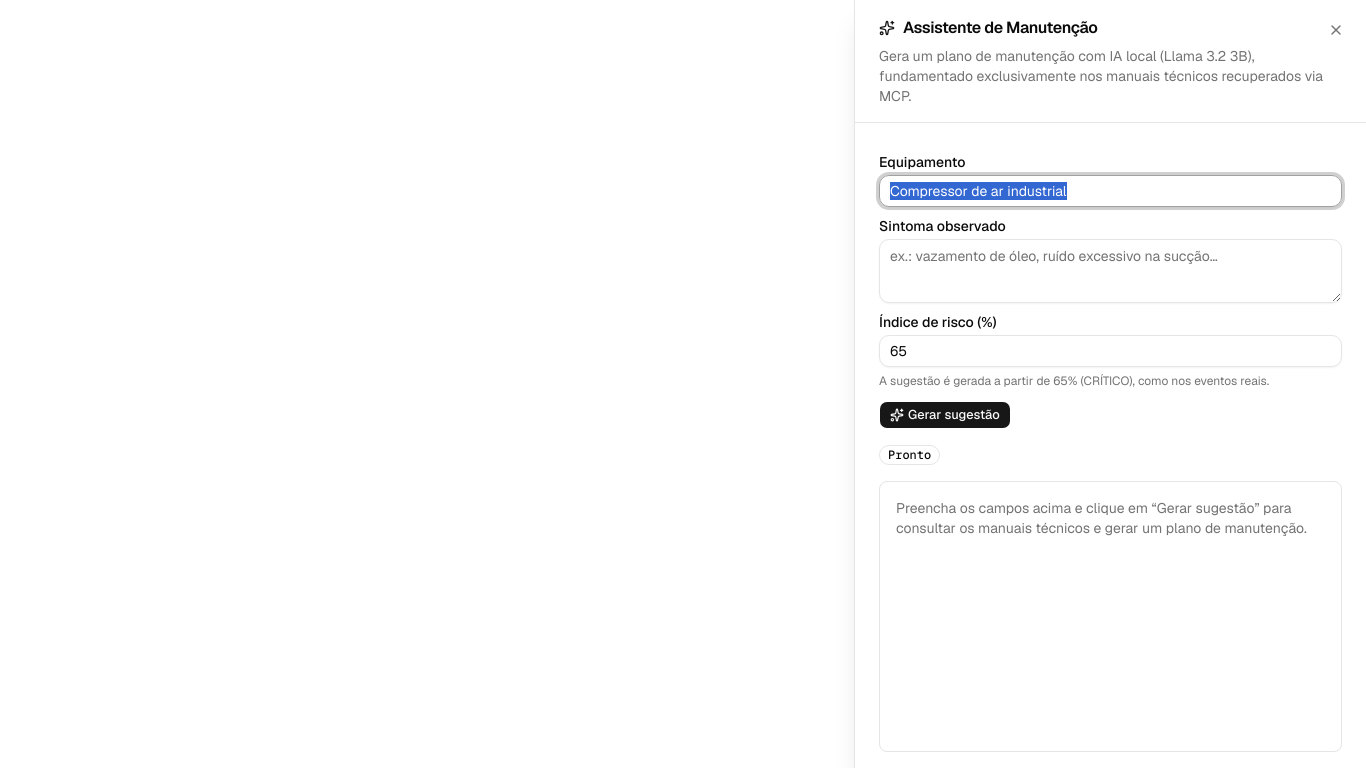
MaintenanceAssistant › B) renderiza um Markdown longo (100+ linhas) sem lançar exceção
The image size is (1366, 768).
Click the button "Gerar sugestão". click: (945, 415)
box: [879,401,1011,429]
(page scrolled)
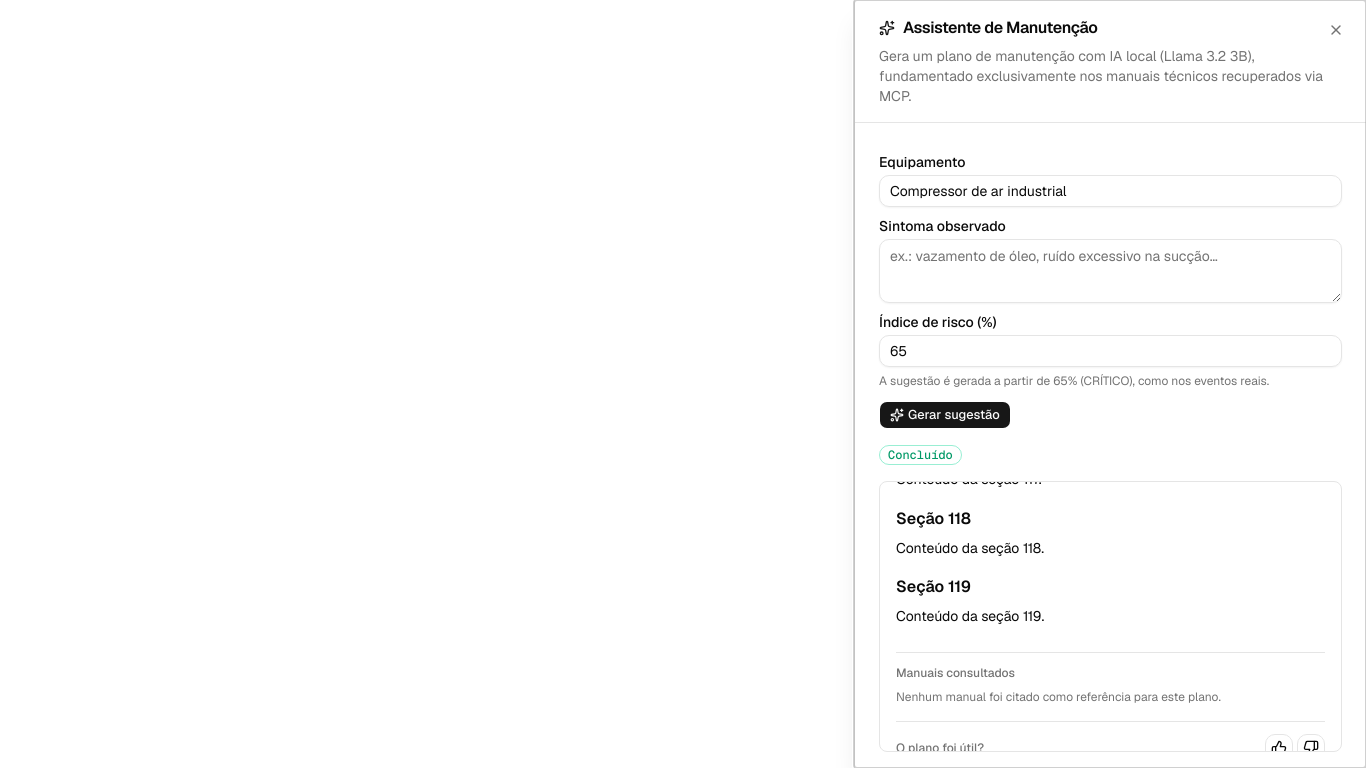
Expected: the text "Conteúdo da seção 119." is shown, [896,607,1044,625]
